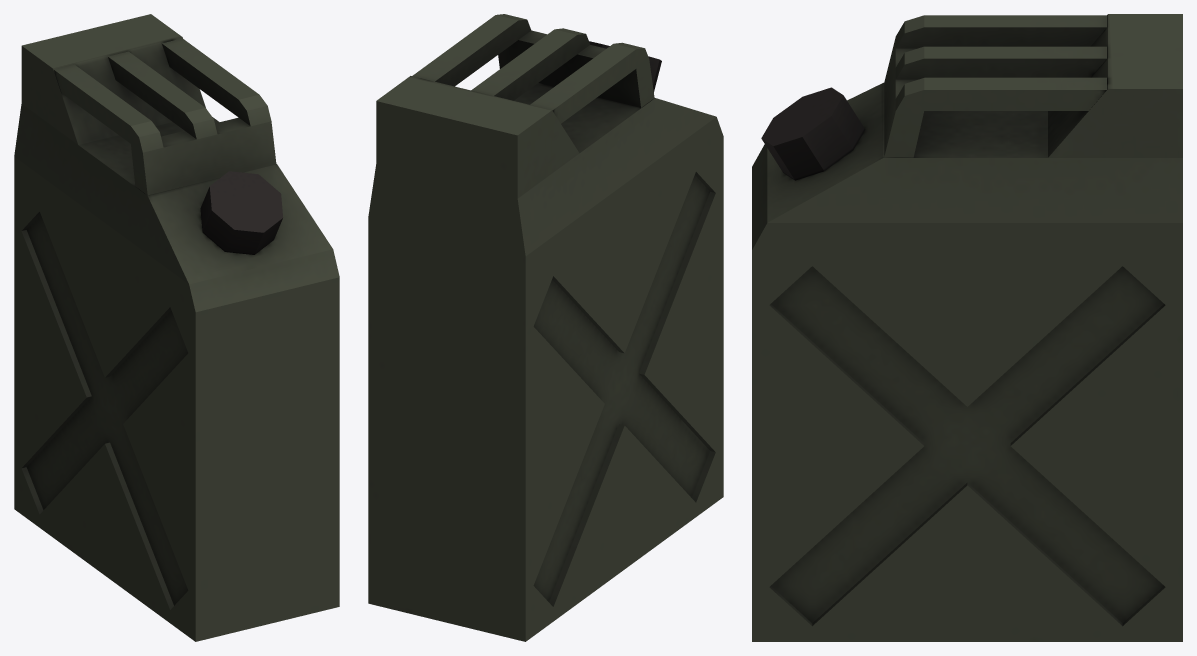
File: Jerry_Can_Green.fbx
3 views of the same model, side by side, from view 1: azimuth 30°, elevation 25°; view 2: azimuth 150°, elevation 25°; view 3: azimuth 270°, elevation 25° (orthographic). The views are drawn at different scales.
Visible parts, largest first — view 1: Jerry_Can_Green; view 2: Jerry_Can_Green; view 3: Jerry_Can_Green.
Part boxes in pixels (x1,y1,x2,y2): Jerry_Can_Green: [14, 14, 339, 641]; Jerry_Can_Green: [368, 14, 723, 641]; Jerry_Can_Green: [752, 14, 1182, 641].
Bounding box in the file's own units: 4.16 × 12.73 × 9.06.
